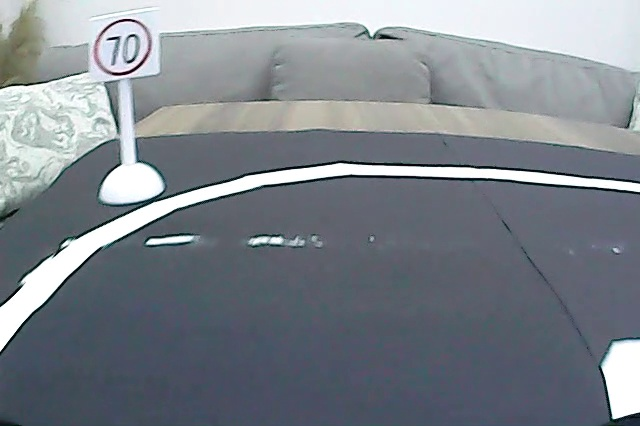speed limit 70: (92, 16, 154, 78)
